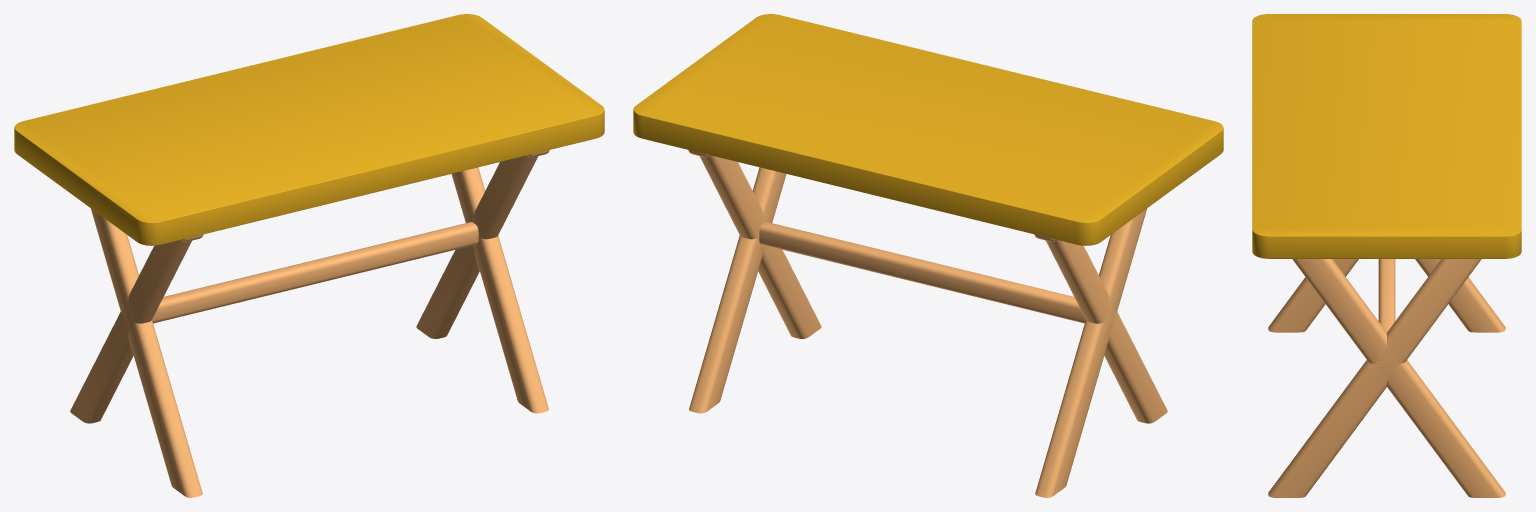
File: mesa_jantar_cavalete_x_amarela.glb
The picture shows the model from 3 angles, left to right: view 1: azimuth 30°, elevation 25°; view 2: azimuth 150°, elevation 25°; view 3: azimuth 270°, elevation 25°; orthographic projection. The views are drawn at different scales.
Visible parts, largest first — view 1: mesa_jantar_cavalete_x_amarela; view 2: mesa_jantar_cavalete_x_amarela; view 3: mesa_jantar_cavalete_x_amarela.
Part boxes in pixels (x1=…): mesa_jantar_cavalete_x_amarela: x1=14, y1=14, x2=604, y2=497; mesa_jantar_cavalete_x_amarela: x1=633, y1=14, x2=1223, y2=497; mesa_jantar_cavalete_x_amarela: x1=1252, y1=14, x2=1521, y2=497.
Size of the model in its own units: 1.25 by 0.75 by 0.64.
1 material, 1 textured.
